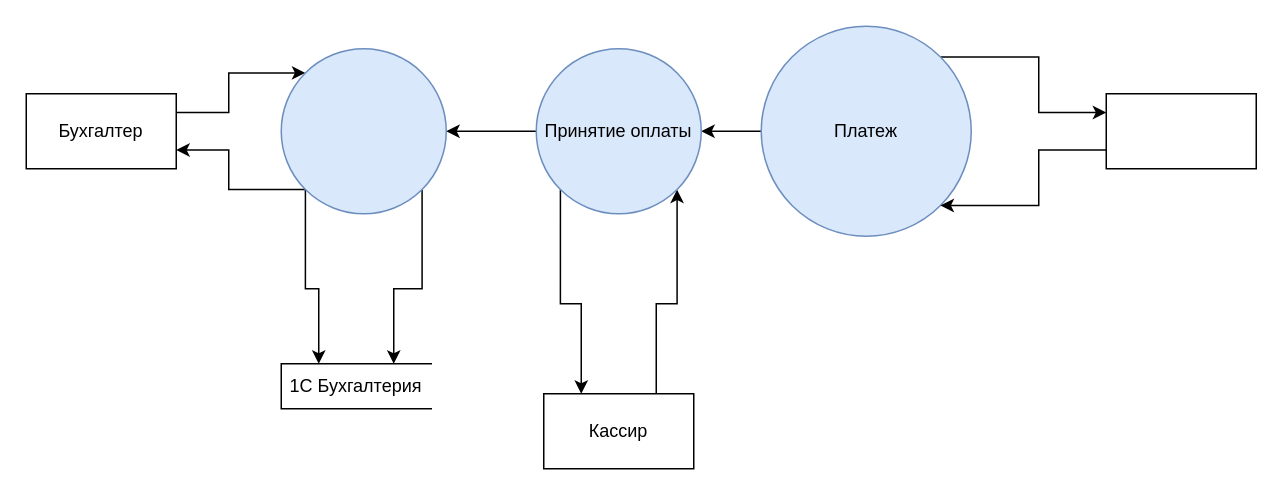
Some shapes in this 1283 by 495 pixel diagram are drawn without their labels. Each missing label, with the centre of its shape:
Обработка платежа: [363,130]
Пациент: [1180,130]
